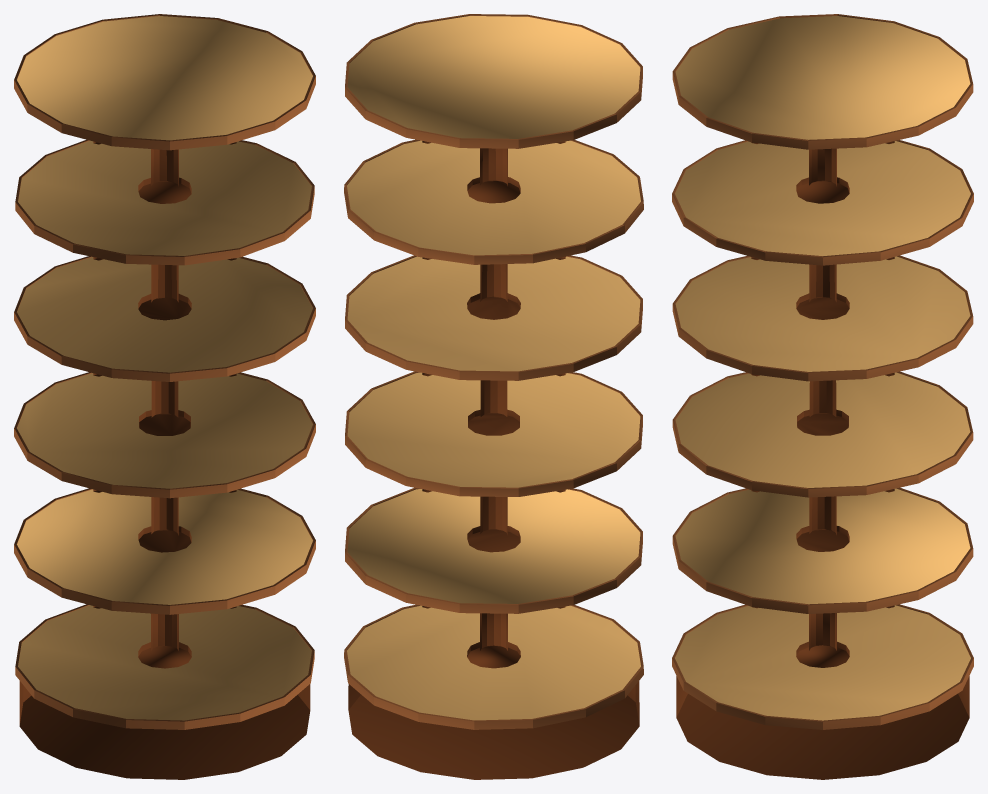
Rendered from Round Shelf.fbx.
The picture shows the model from 3 angles, left to right: view 1: azimuth 30°, elevation 25°; view 2: azimuth 150°, elevation 25°; view 3: azimuth 270°, elevation 25°; orthographic projection.
Parts seen in each view (by area): view 1: Node 0; view 2: Node 0; view 3: Node 0.
Part boxes in pixels (x1,y1,x2,y2): Node 0: [14, 14, 315, 779]; Node 0: [344, 14, 643, 779]; Node 0: [672, 14, 973, 779].
Bounding box in the file's own units: 0.8176 × 1.91 × 0.8176.
